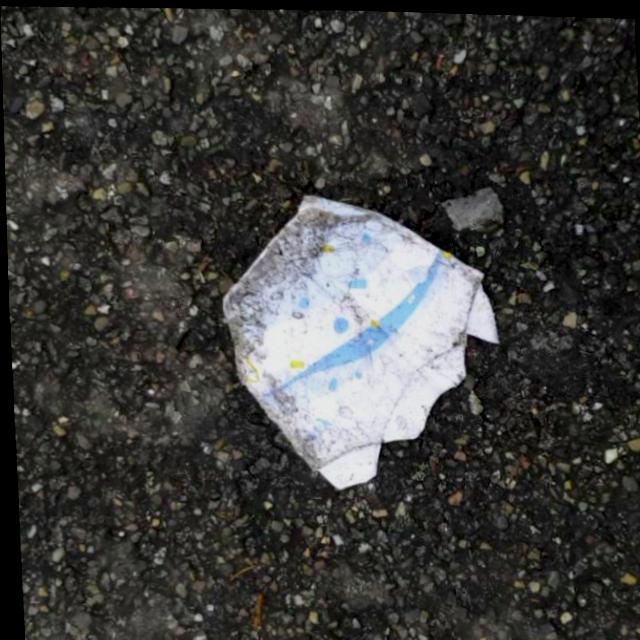Paper: (211, 182, 509, 500)
